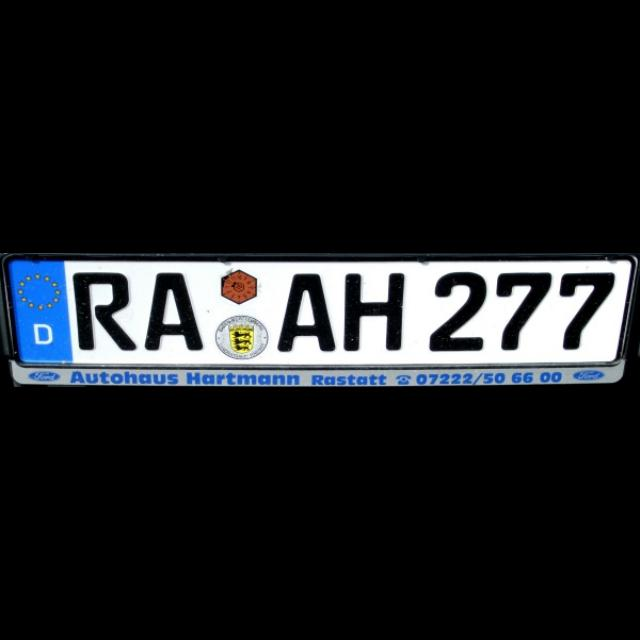d_license_plate: (6, 258, 630, 366)
